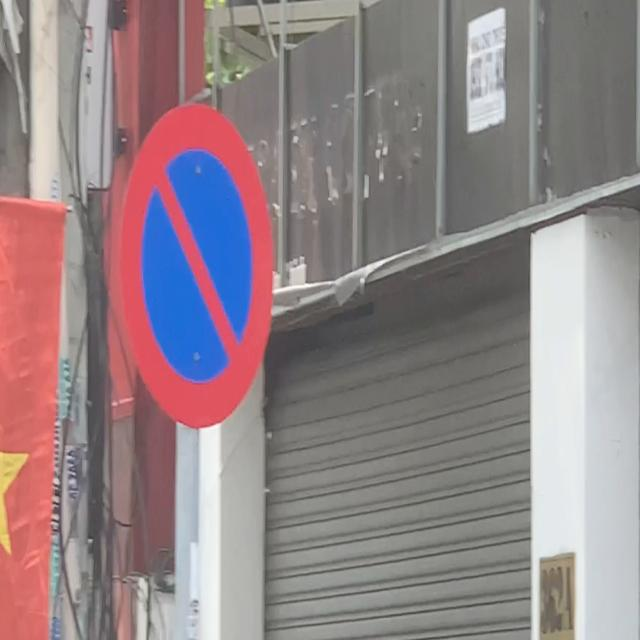Cam do: (119, 101, 275, 431)
